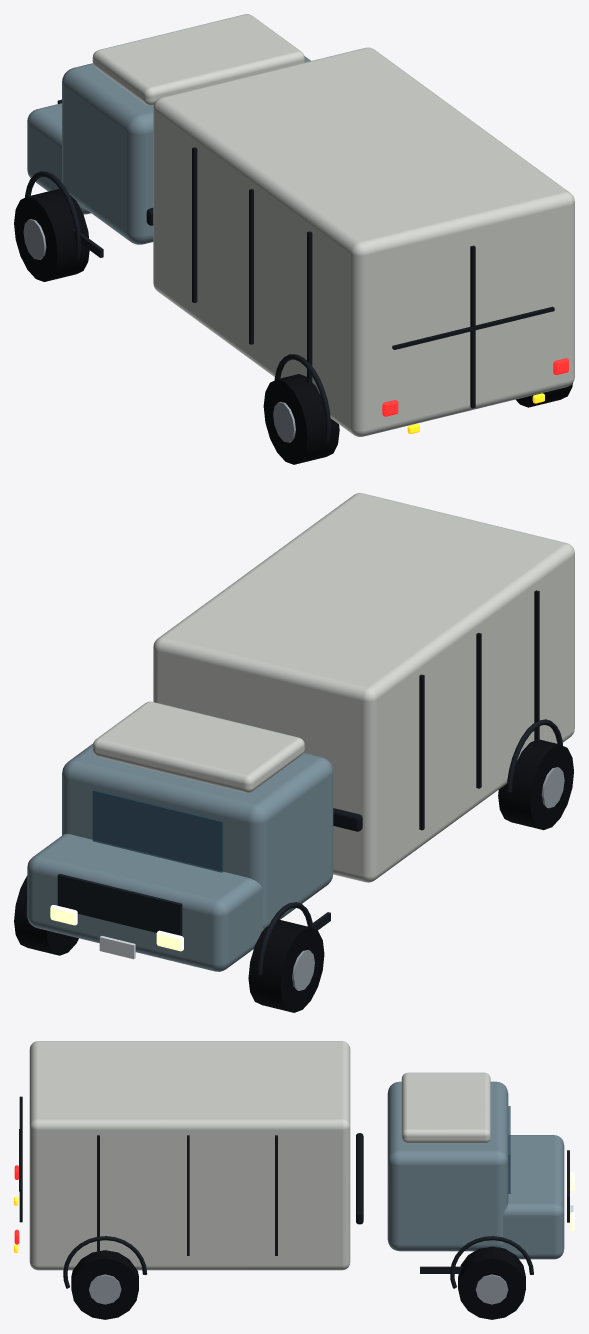
The model's file is truck_far.glb.
The picture shows the model from 3 angles, top to bottom: view 1: azimuth 30°, elevation 25°; view 2: azimuth 150°, elevation 25°; view 3: azimuth 270°, elevation 25°; orthographic projection. The views are drawn at different scales.
Parts seen in each view (by area): view 1: truck_far_rear_cargo_box_body_with_soft_bevel, truck_far_separate_forward_cab_body, truck_far_raised_cab_roof_panel, truck_far_front_left_wheel_tire, truck_far_rear_left_wheel_tire, truck_far_front_hood_body_panel, truck_far_rear_cargo_door_vertical_panel_break, truck_far_left_cargo_side_rib_panel_break_front, truck_far_rear_cargo_door_horizontal_panel_break, truck_far_left_cargo_side_rib_panel_break_rear, truck_far_front_left_rounded_wheel_arch_panel_trim, truck_far_rear_left_rounded_wheel_arch_panel_trim (+3 smaller); view 2: truck_far_rear_cargo_box_body_with_soft_bevel, truck_far_separate_forward_cab_body, truck_far_front_hood_body_panel, truck_far_raised_cab_roof_panel, truck_far_front_windshield_glass, truck_far_front_left_wheel_tire, truck_far_front_grille_dark_trim, truck_far_rear_left_wheel_tire, truck_far_front_right_wheel_tire, truck_far_left_cargo_side_rib_panel_break_front, truck_far_left_cargo_side_rib_panel_break_middle, truck_far_left_cargo_side_rib_panel_break_rear (+4 smaller); view 3: truck_far_rear_cargo_box_body_with_soft_bevel, truck_far_separate_forward_cab_body, truck_far_front_hood_body_panel, truck_far_raised_cab_roof_panel, truck_far_front_right_wheel_tire, truck_far_rear_right_wheel_tire, truck_far_front_right_wheel_outer_hub, truck_far_rear_right_wheel_outer_hub, truck_far_visible_cab_cargo_separation_gap, truck_far_front_right_rounded_wheel_arch_panel_trim, truck_far_rear_right_rounded_wheel_arch_panel_trim, truck_far_rear_cargo_door_vertical_panel_break (+2 smaller).
Part boxes in pixels (x1,y1,x2,y2): truck_far_rear_cargo_box_body_with_soft_bevel: (153,47,574,436); truck_far_separate_forward_cab_body: (62,56,310,244); truck_far_raised_cab_roof_panel: (92,14,304,105); truck_far_front_left_wheel_tire: (14,188,89,281); truck_far_rear_left_wheel_tire: (263,374,339,464); truck_far_front_hood_body_panel: (27,103,90,214); truck_far_rear_cargo_door_vertical_panel_break: (470,245,475,408); truck_far_left_cargo_side_rib_panel_break_front: (192,147,197,302); truck_far_rear_cargo_door_horizontal_panel_break: (392,306,554,349); truck_far_left_cargo_side_rib_panel_break_rear: (307,231,312,383); truck_far_front_left_rounded_wheel_arch_panel_trim: (25,171,81,260); truck_far_rear_left_rounded_wheel_arch_panel_trim: (274,354,330,443); truck_far_rear_cargo_box_body_with_soft_bevel: (153,493,574,882); truck_far_separate_forward_cab_body: (62,744,333,928); truck_far_front_hood_body_panel: (27,833,263,971); truck_far_raised_cab_roof_panel: (92,701,304,792); truck_far_front_windshield_glass: (92,789,223,872); truck_far_front_left_wheel_tire: (248,919,324,1012); truck_far_front_grille_dark_trim: (57,873,182,935); truck_far_rear_left_wheel_tire: (498,739,573,830); truck_far_front_right_wheel_tire: (14,875,78,955); truck_far_left_cargo_side_rib_panel_break_front: (419,674,424,830); truck_far_left_cargo_side_rib_panel_break_middle: (476,633,481,788); truck_far_left_cargo_side_rib_panel_break_rear: (534,590,539,741); truck_far_rear_cargo_box_body_with_soft_bevel: (29,1041,350,1270); truck_far_separate_forward_cab_body: (387,1081,508,1251); truck_far_front_hood_body_panel: (501,1135,564,1259); truck_far_raised_cab_roof_panel: (401,1072,490,1143); truck_far_front_right_wheel_tire: (458,1246,525,1319); truck_far_rear_right_wheel_tire: (71,1250,138,1319); truck_far_front_right_wheel_outer_hub: (475,1274,508,1304); truck_far_rear_right_wheel_outer_hub: (89,1274,121,1304); truck_far_visible_cab_cargo_separation_gap: (356,1133,363,1224); truck_far_front_right_rounded_wheel_arch_panel_trim: (450,1236,533,1288); truck_far_rear_right_rounded_wheel_arch_panel_trim: (63,1236,147,1288); truck_far_rear_cargo_door_vertical_panel_break: (19,1096,22,1222).
Size of the model in its own units: 2.85 by 2.46 by 6.61.
